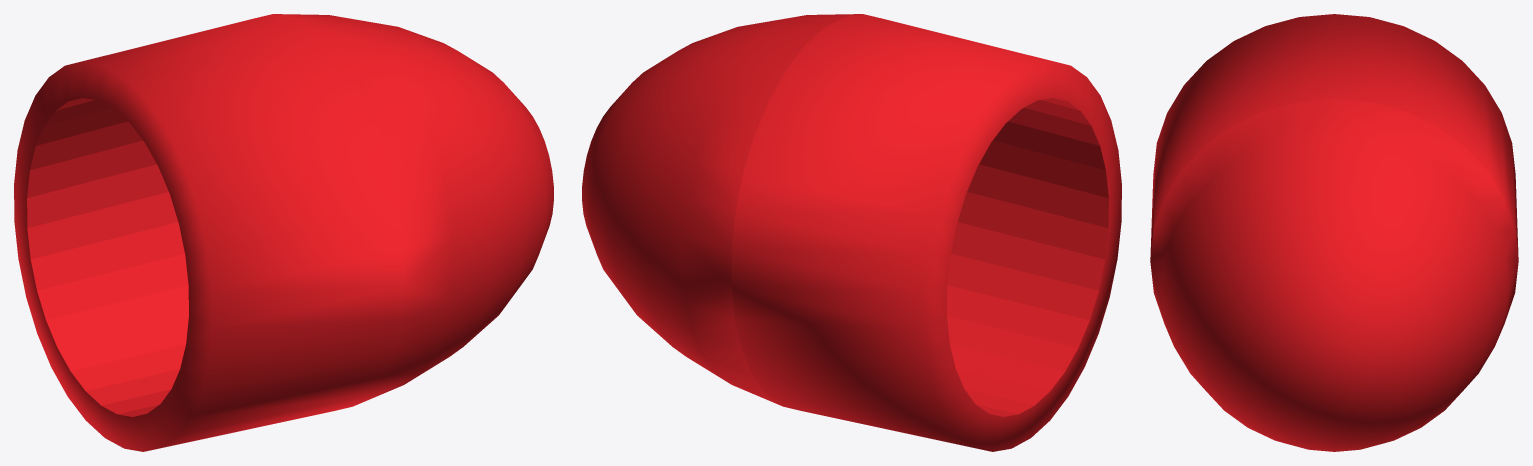
File: bullet2.fbx
3 renders of one model, left to right at view 1: azimuth 30°, elevation 25°; view 2: azimuth 150°, elevation 25°; view 3: azimuth 270°, elevation 25°, orthographic. The views are drawn at different scales.
Visible parts, largest first — view 1: Sphere001; view 2: Sphere001; view 3: Sphere001.
Part boxes in pixels (box(x1,y1,x2,y2)): Sphere001: box(14, 14, 553, 451); Sphere001: box(582, 14, 1121, 451); Sphere001: box(1150, 14, 1518, 451).
Size of the model in its own units: 8.26 by 6.61 by 6.6.
1 material, 1 textured.
